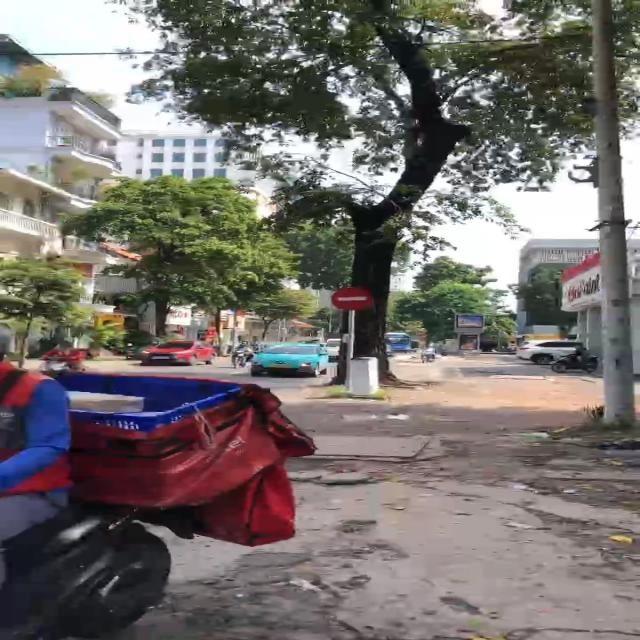Bien bao cam di nguoc chieu: (329, 284, 376, 315)
